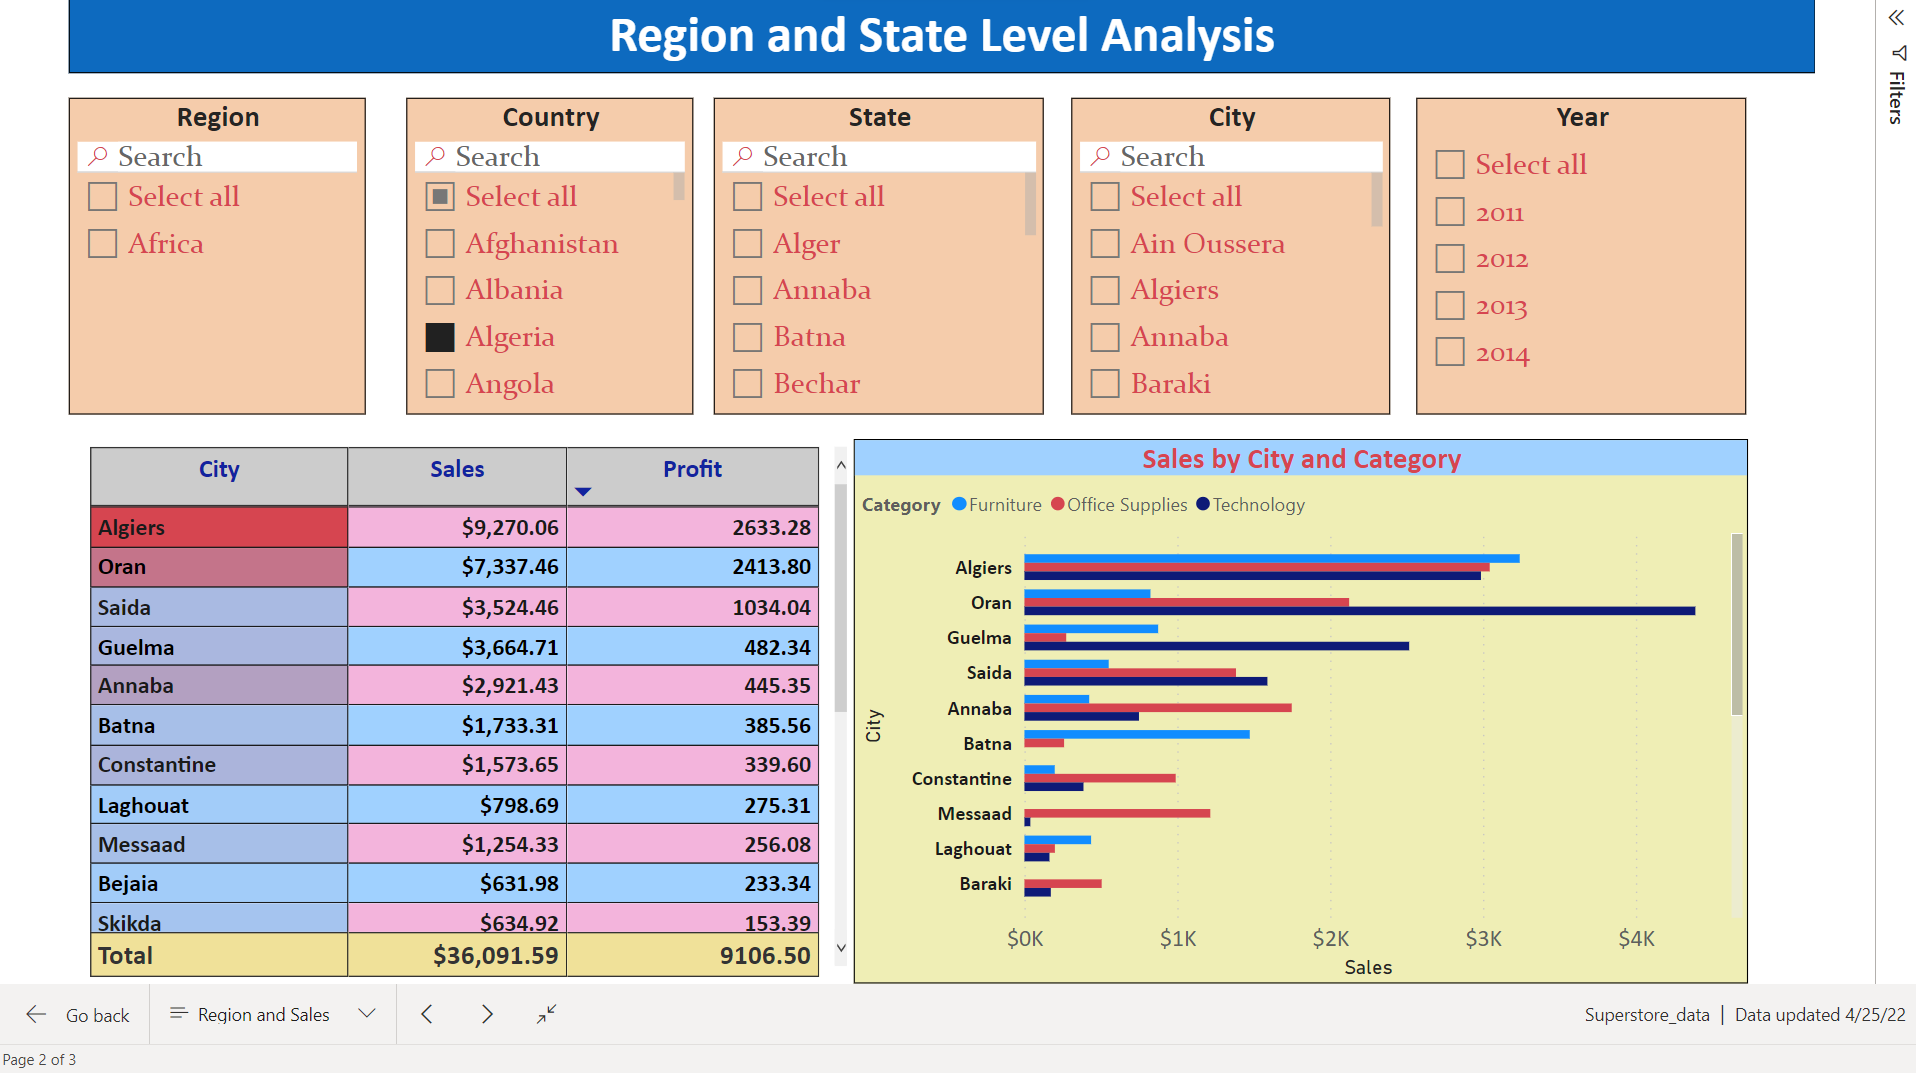

The page's visual inventory and layout, read from the dashboard file:
{"tool":"powerbi","page":{"name":"Region and Sales","canvas":[1280,720],"ordinal":1},"visuals":[{"type":"textbox","box":[9.6,0,1270.4,57.7],"z":0},{"type":"slicer","title":"Region","fields":{"Values":["Orders.Region"]},"box":[9.6,75.5,215.6,230.7],"z":1000},{"type":"slicer","title":"Country","fields":{"Values":["Orders.Country"]},"box":[255.5,75.5,208.8,230.7],"z":2000},{"type":"slicer","title":"State","fields":{"Values":["Orders.State"]},"box":[479.3,75.5,240.3,230.7],"z":3000},{"type":"slicer","title":"City","fields":{"Values":["Orders.City"]},"box":[738.9,75.5,232.1,230.7],"z":4000},{"type":"slicer","title":"Year","fields":{"Values":["Orders.Year"]},"box":[990.2,75.5,240.3,230.7],"z":5000},{"type":"tableEx","fields":{"Values":["Orders.City","Sum(Orders.Sales)","Sum(Orders.Profit)"]},"box":[19.2,324.1,561.7,395.5],"z":6000},{"type":"clusteredBarChart","fields":{"Y":["Sum(Orders.Sales)"],"Category":["Orders.City"],"Series":["Orders.Category"]},"box":[580.6,323.9,650.3,396.1],"z":7000}]}

Visuals, with their boxes on the page's 1280x720 design canvas (x1, y1, x2, y2). These are canvas units, not pixel positions in the 1916x1073 screenshot, which may show the page scaled, cropped or inside an application window:
textbox: box(10, 0, 1280, 58)
"Region" slicer: box(10, 76, 225, 306)
"Country" slicer: box(256, 76, 464, 306)
"State" slicer: box(479, 76, 720, 306)
"City" slicer: box(739, 76, 971, 306)
"Year" slicer: box(990, 76, 1230, 306)
tableEx - Orders.City x Sum(Orders.Sales): box(19, 324, 581, 720)
clusteredBarChart - Sum(Orders.Sales) x Orders.City: box(581, 324, 1231, 720)
